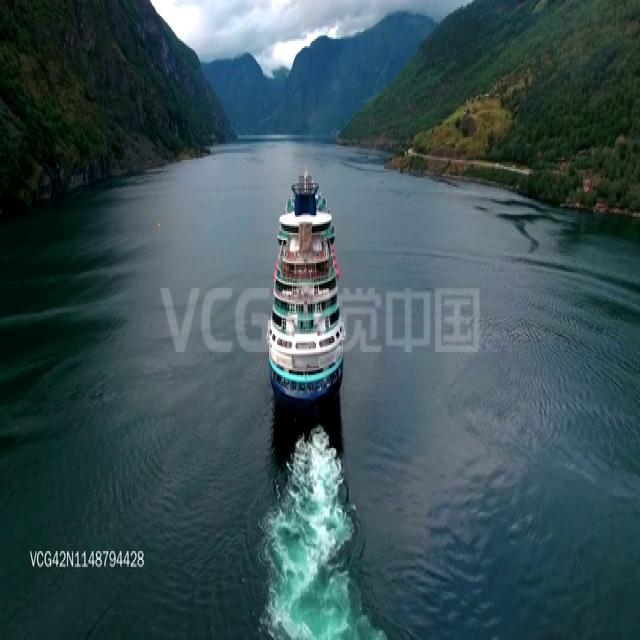passenger ship: (261, 167, 345, 402)
